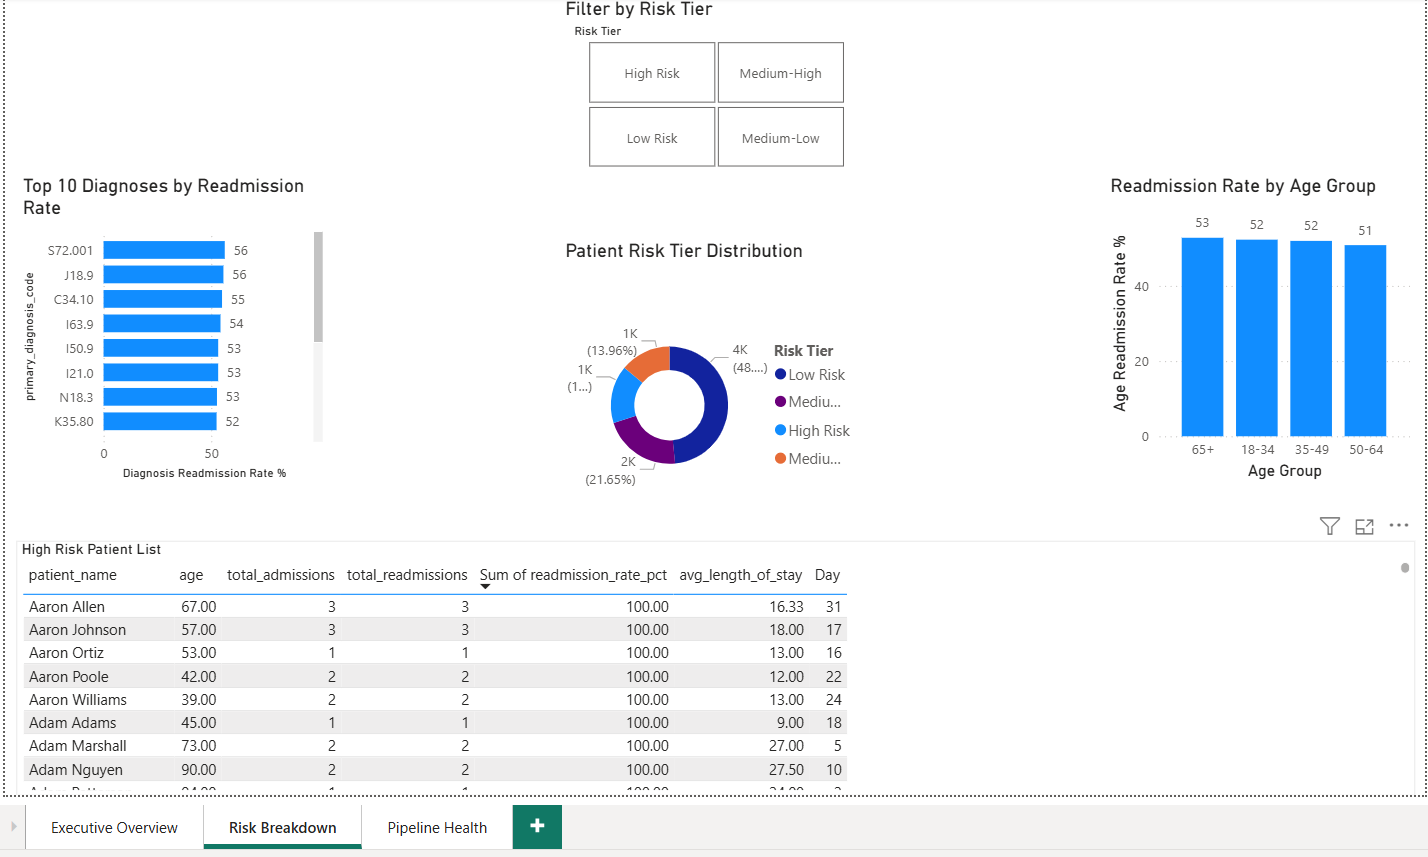

The page's visual inventory and layout, read from the dashboard file:
{"tool":"powerbi","page":{"name":"Risk Breakdown","canvas":[1280,720],"ordinal":1},"visuals":[{"type":"clusteredBarChart","title":"Top 10 Diagnoses by Readmission Rate","fields":{"Category":["production admissions.primary_diagnosis_code"],"Y":["production admissions.Diagnosis Readmission Rate %"]},"box":[11,160.2,280,280],"z":0},{"type":"clusteredColumnChart","title":"Readmission Rate by Age Group","fields":{"Category":["production patients.Age Group"],"Y":["production admissions.Age Readmission Rate %"]},"box":[991.7,160.2,280,280],"z":1000},{"type":"donutChart","title":"Patient Risk Tier Distribution","fields":{"Category":["production admissions.Risk Tier"],"Y":["production admissions.Total Admissions"]},"box":[500.1,218.9,278.8,280],"z":2000},{"type":"tableEx","title":"High Risk Patient List","fields":{"Values":["production vw_high_risk_patients.patient_name","production vw_high_risk_patients.age","production vw_high_risk_patients.total_admissions","production vw_high_risk_patients.total_readmissions","Sum(production vw_high_risk_patients.readmission_rate_pct)","production vw_high_risk_patients.avg_length_of_stay","production vw_high_risk_patients.last_admission_date.Variation.Date Hierarchy.Day"]},"box":[9.8,490.4,1262,229.9],"z":3000},{"type":"slicer","title":"Filter by Risk Tier","fields":{"Values":["production admissions.Risk Tier"]},"box":[500.1,0,280,160.2],"z":4000}]}

Visuals, with their boxes on the page's 1280x720 design canvas (x1, y1, x2, y2). These are canvas units, not pixel positions in the 1428x857 screenshot, which may show the page scaled, cropped or inside an application window:
"Top 10 Diagnoses by Readmission Rate" clusteredBarChart: <region>11, 160, 291, 440</region>
"Readmission Rate by Age Group" clusteredColumnChart: <region>992, 160, 1272, 440</region>
"Patient Risk Tier Distribution" donutChart: <region>500, 219, 779, 499</region>
"High Risk Patient List" tableEx: <region>10, 490, 1272, 720</region>
"Filter by Risk Tier" slicer: <region>500, 0, 780, 160</region>
